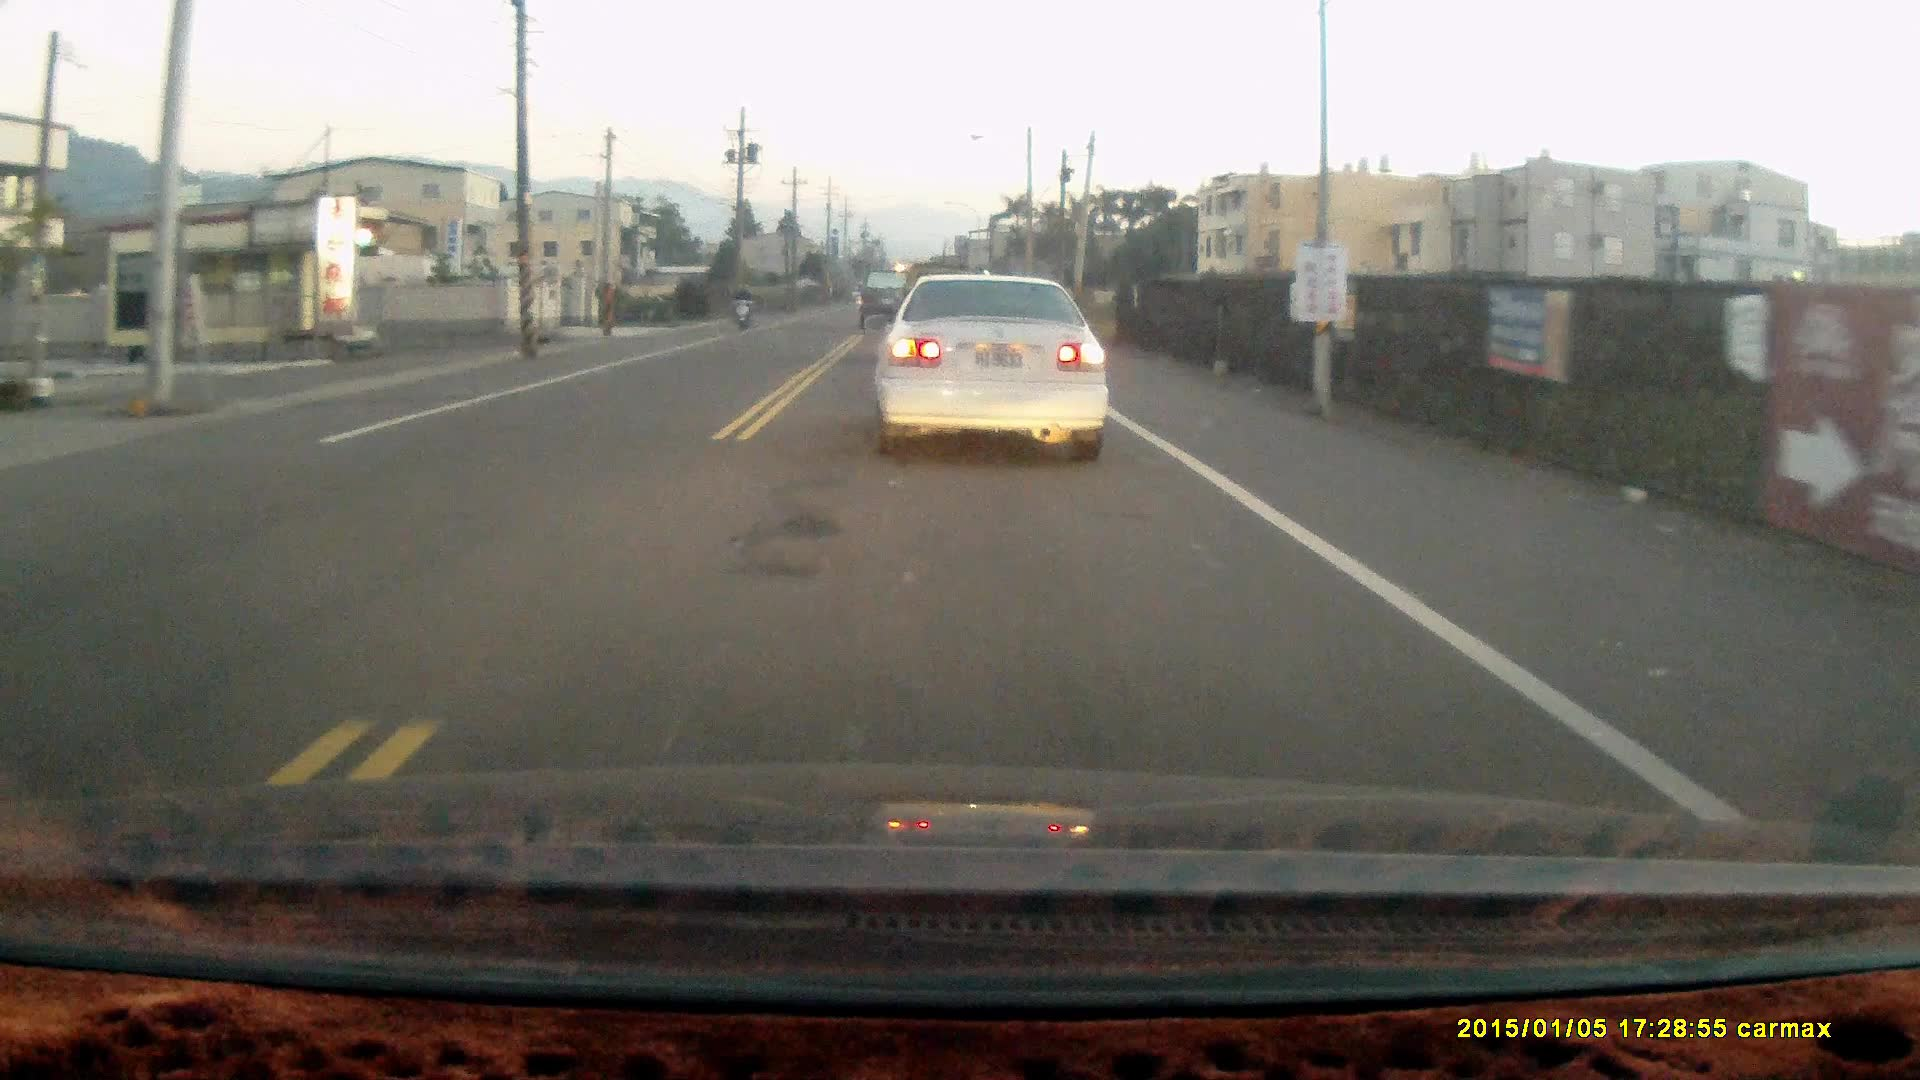rider: (729, 282, 752, 331)
vehicle: (868, 274, 1110, 466), (859, 270, 920, 338)
